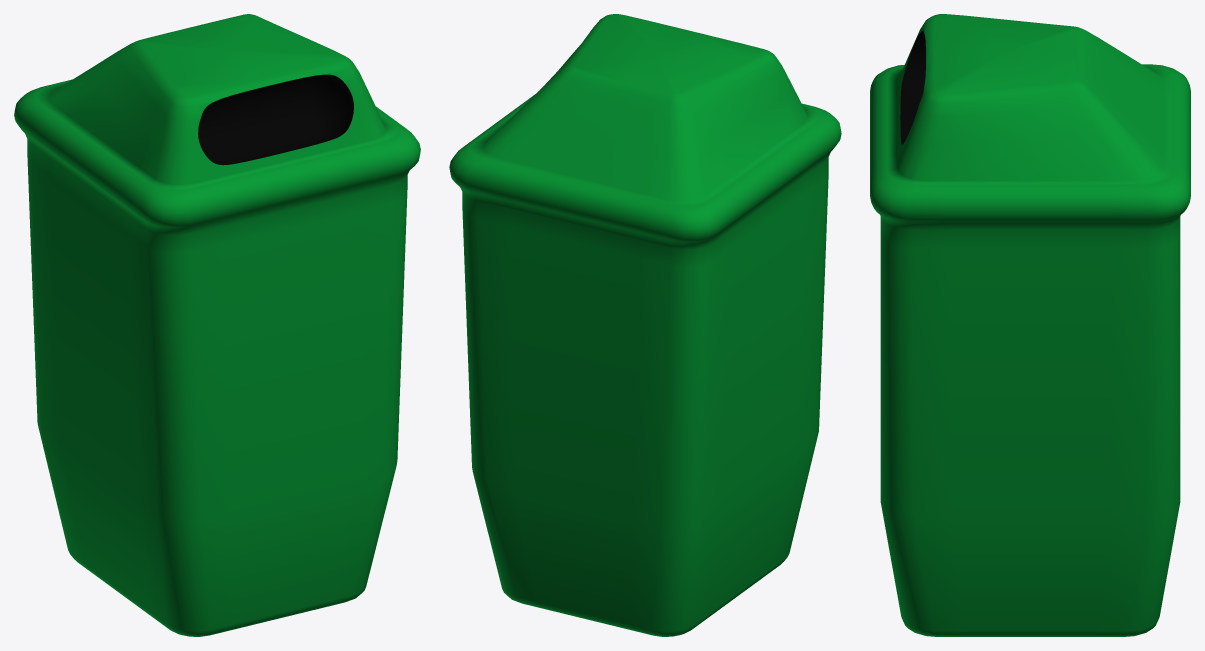
File: trash_can.fbx
3 views of the same model, side by side, from view 1: azimuth 30°, elevation 25°; view 2: azimuth 150°, elevation 25°; view 3: azimuth 270°, elevation 25° (orthographic). The views are drawn at different scales.
Parts seen in each view (by area): view 1: body; view 2: body; view 3: body.
Part boxes in pixels (left/top/right/bottom): body: left=14, top=14, right=420, bottom=636; body: left=449, top=14, right=841, bottom=636; body: left=870, top=14, right=1190, bottom=636.
Size of the model in its own units: 214 by 398 by 214.
